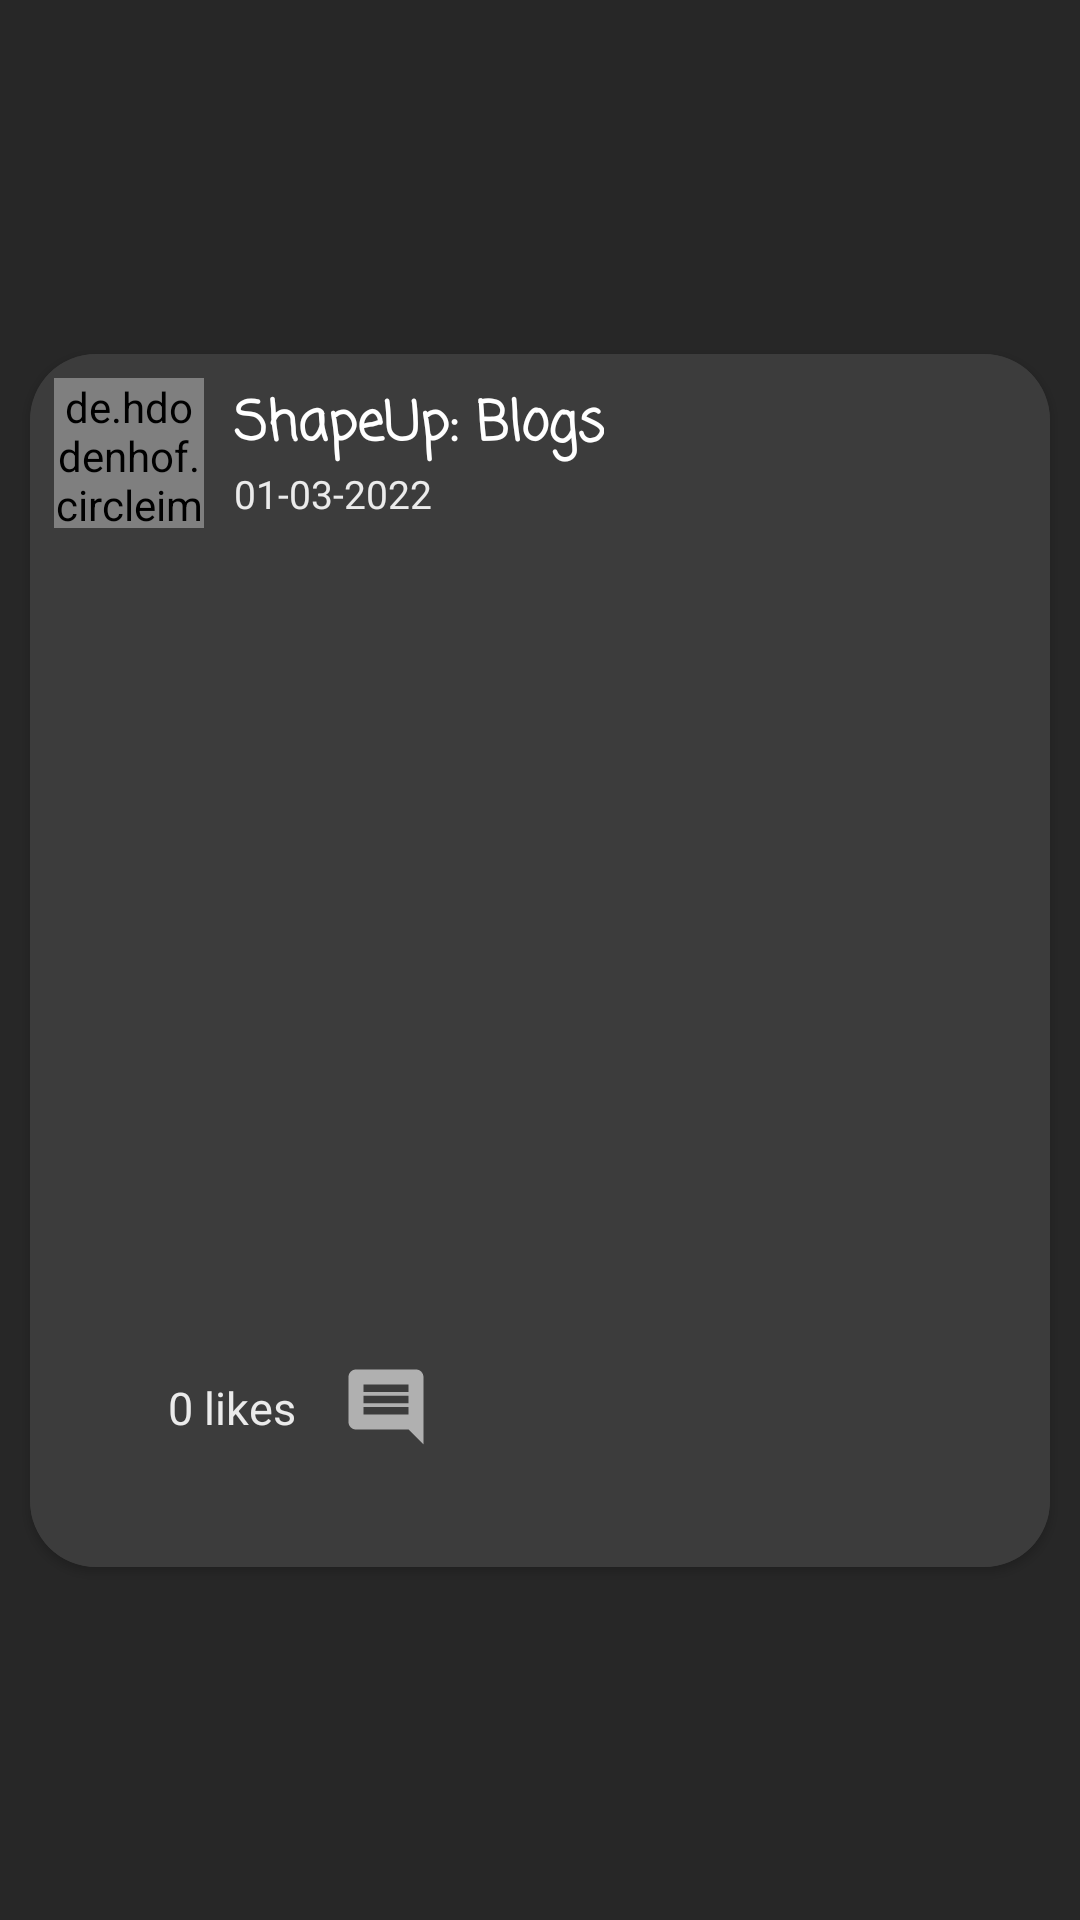

Screen size 1080x1920. Icon name, then its box in pixels as (x1, y1, x2, y2):
comment: (348, 1369, 424, 1444)
